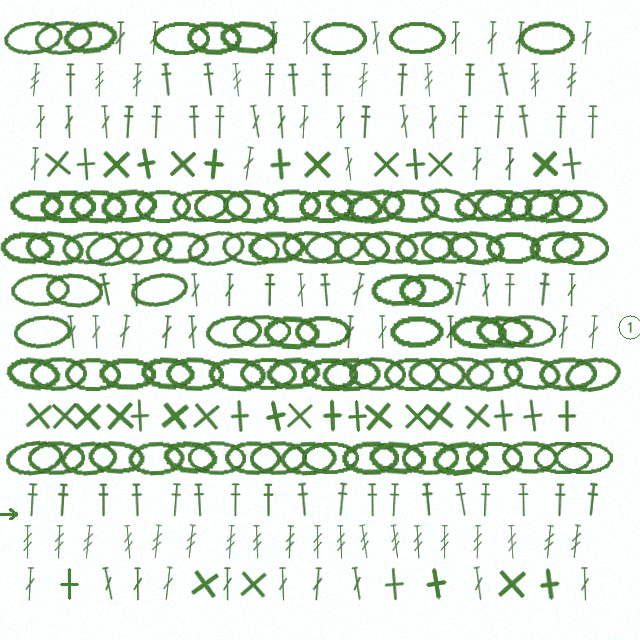chain: (82, 225, 147, 271), (417, 183, 480, 228), (184, 226, 247, 270), (345, 185, 407, 227), (128, 269, 190, 311), (562, 353, 624, 395), (3, 437, 66, 478), (359, 227, 421, 268), (501, 353, 563, 394), (2, 18, 64, 58), (23, 228, 85, 268), (113, 228, 175, 268), (323, 186, 384, 226), (220, 228, 281, 268), (522, 186, 584, 225), (430, 438, 490, 478), (445, 228, 506, 267), (4, 354, 63, 394), (33, 18, 93, 57), (527, 228, 587, 267), (463, 355, 524, 393), (61, 18, 120, 57), (99, 186, 158, 225), (161, 438, 220, 477), (221, 187, 281, 225), (44, 271, 104, 309), (12, 313, 72, 351), (474, 313, 534, 351), (367, 439, 427, 477), (303, 229, 364, 266), (204, 313, 263, 351), (59, 439, 118, 477), (218, 19, 278, 56), (380, 187, 440, 224), (453, 187, 513, 224), (281, 229, 341, 266), (394, 229, 454, 266), (434, 355, 494, 392), (87, 439, 146, 476), (474, 188, 534, 224), (10, 272, 70, 308), (321, 356, 381, 392), (503, 187, 561, 224), (449, 313, 507, 350), (139, 355, 197, 392), (68, 188, 127, 224), (61, 230, 120, 266), (207, 356, 266, 392), (407, 356, 466, 392), (127, 440, 186, 476), (265, 355, 322, 392), (187, 440, 247, 475), (171, 188, 229, 224), (550, 188, 608, 224), (370, 272, 428, 308), (262, 314, 320, 350), (279, 440, 337, 476), (262, 188, 321, 223), (420, 230, 479, 265), (232, 314, 291, 349), (497, 314, 556, 349), (29, 356, 88, 391), (165, 356, 224, 391), (348, 356, 407, 391), (538, 356, 597, 391), (249, 440, 308, 475), (518, 20, 576, 55), (152, 230, 210, 265), (247, 230, 305, 265), (27, 440, 85, 475), (341, 440, 399, 475), (401, 440, 459, 475), (0, 230, 56, 266), (152, 21, 211, 55), (388, 21, 447, 55), (193, 189, 252, 223), (239, 357, 298, 391), (533, 441, 592, 475), (554, 441, 613, 475), (186, 20, 243, 55), (224, 440, 281, 475), (501, 440, 558, 475), (134, 189, 192, 223), (551, 231, 609, 265), (294, 315, 352, 349), (98, 357, 156, 391), (300, 357, 358, 391), (383, 357, 441, 391), (301, 441, 359, 475), (465, 441, 523, 475), (310, 21, 367, 55), (39, 189, 96, 223), (298, 189, 355, 223), (333, 231, 390, 265), (485, 231, 542, 265), (398, 273, 455, 307), (64, 357, 121, 391), (9, 189, 65, 223), (389, 315, 445, 349)
double: (349, 272, 367, 307), (100, 566, 117, 601), (248, 104, 264, 139), (349, 566, 365, 601), (397, 104, 412, 139), (241, 146, 256, 181), (117, 314, 132, 349), (471, 566, 486, 601), (161, 566, 175, 601), (369, 21, 383, 55), (513, 21, 527, 55), (342, 147, 356, 181), (479, 273, 493, 307), (65, 315, 79, 349), (556, 315, 570, 349), (148, 21, 161, 55), (580, 21, 593, 55), (99, 105, 112, 139), (275, 105, 288, 139), (189, 273, 202, 307), (295, 273, 308, 307), (160, 315, 173, 349), (186, 315, 199, 349), (343, 315, 356, 349), (587, 315, 600, 349), (311, 567, 324, 601), (114, 21, 126, 55), (486, 21, 498, 55), (63, 105, 75, 139), (298, 105, 310, 139), (427, 105, 439, 139), (29, 147, 41, 181), (471, 147, 483, 181), (90, 315, 102, 349), (24, 567, 36, 601), (277, 567, 289, 601), (579, 567, 591, 601), (268, 21, 279, 55), (301, 21, 312, 55), (450, 21, 461, 55), (35, 105, 46, 139), (335, 105, 346, 139), (504, 147, 515, 181), (224, 273, 235, 307), (566, 273, 577, 307), (377, 315, 388, 349), (445, 315, 456, 349), (132, 567, 143, 601), (222, 567, 233, 601)
half_double: (495, 62, 514, 97), (96, 272, 115, 307), (450, 272, 469, 307), (453, 482, 471, 517), (516, 104, 533, 139), (159, 62, 175, 97), (201, 62, 217, 97), (536, 272, 552, 307), (334, 482, 350, 517), (584, 482, 600, 517), (296, 482, 311, 517), (420, 482, 435, 517), (286, 63, 301, 97), (491, 105, 506, 139), (318, 273, 333, 307), (55, 483, 70, 517), (168, 483, 183, 517), (395, 63, 409, 97), (121, 105, 135, 139), (149, 105, 163, 139), (187, 105, 201, 139), (358, 105, 372, 139), (554, 105, 568, 139), (25, 483, 39, 517), (130, 483, 144, 517), (192, 483, 206, 517), (387, 483, 401, 517), (478, 483, 492, 517), (553, 483, 567, 517), (64, 63, 77, 97), (263, 63, 276, 97), (320, 63, 333, 97), (463, 63, 476, 97), (213, 105, 226, 139), (456, 105, 469, 139), (586, 105, 599, 139), (130, 273, 143, 307), (263, 273, 276, 307), (503, 273, 516, 307), (97, 483, 110, 517), (229, 483, 242, 517), (262, 483, 275, 517), (366, 483, 379, 517), (517, 483, 530, 517)
noise: (616, 313, 640, 341), (0, 508, 20, 520)
single: (256, 396, 296, 436), (127, 144, 166, 183), (185, 564, 224, 603), (417, 564, 456, 603), (530, 565, 568, 603), (39, 145, 76, 182), (553, 145, 590, 182), (20, 397, 57, 434), (156, 397, 193, 434), (420, 397, 457, 434), (485, 397, 522, 434), (514, 397, 551, 434), (68, 146, 104, 182), (196, 146, 232, 182), (262, 146, 298, 182), (397, 146, 433, 182), (188, 398, 224, 434), (222, 398, 258, 434), (339, 398, 375, 434), (360, 398, 396, 434), (459, 398, 495, 434), (235, 566, 271, 602), (376, 566, 412, 602), (165, 146, 200, 181), (527, 146, 562, 181), (47, 398, 82, 433), (102, 398, 137, 433), (122, 398, 157, 433), (282, 398, 317, 433), (315, 398, 350, 433), (494, 566, 529, 601), (99, 147, 133, 181), (300, 147, 334, 181), (369, 147, 403, 181), (423, 147, 457, 181), (70, 399, 104, 433), (400, 399, 434, 433), (550, 399, 584, 433), (52, 567, 86, 601)
treble: (357, 524, 372, 559), (388, 524, 403, 559), (150, 524, 164, 559), (184, 524, 198, 559), (569, 524, 583, 559), (28, 63, 42, 97), (230, 63, 244, 97), (356, 63, 370, 97), (81, 525, 95, 559), (542, 525, 556, 559), (422, 63, 435, 97), (565, 63, 578, 97), (122, 525, 135, 559), (224, 525, 237, 559), (131, 63, 143, 97), (529, 63, 541, 97), (53, 525, 65, 559), (251, 525, 263, 559), (284, 525, 296, 559), (335, 525, 347, 559), (412, 525, 424, 559), (506, 525, 518, 559), (94, 63, 105, 97), (22, 525, 33, 559), (312, 525, 323, 559), (439, 525, 450, 559), (472, 525, 483, 559)
